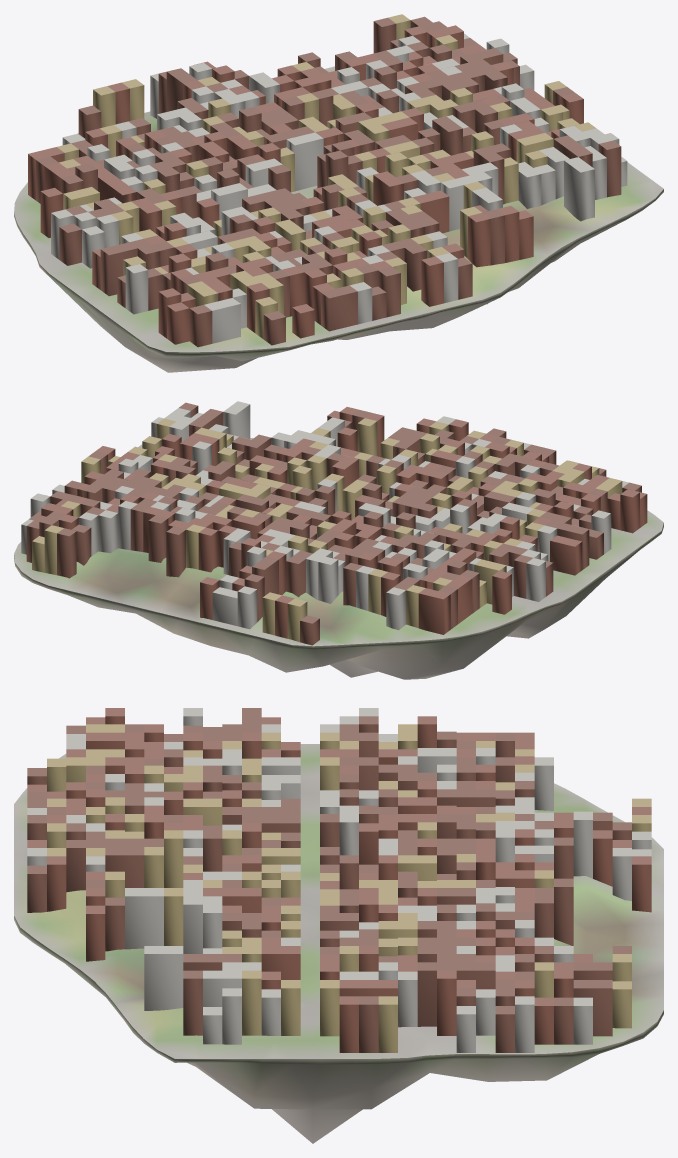
The model's file is SKY-004.lod1.glb.
The picture shows the model from 3 angles, top to bottom: view 1: azimuth 30°, elevation 25°; view 2: azimuth 150°, elevation 25°; view 3: azimuth 270°, elevation 25°; orthographic projection. The views are drawn at different scales.
Visible parts, largest first — view 1: warren_hull, deck, rock; view 2: warren_hull, deck, rock; view 3: warren_hull, deck, rock.
Boxes of the visible parts, box(x1,y1,x2,y2) form: warren_hull: box(28, 14, 627, 347); deck: box(14, 66, 663, 352); rock: box(14, 189, 663, 372); warren_hull: box(21, 401, 647, 645); deck: box(14, 438, 663, 646); rock: box(14, 523, 663, 679); warren_hull: box(27, 708, 651, 1052); deck: box(14, 744, 663, 1058); rock: box(14, 916, 663, 1143).
Size of the model in its own units: 229 by 77.89 by 200.
